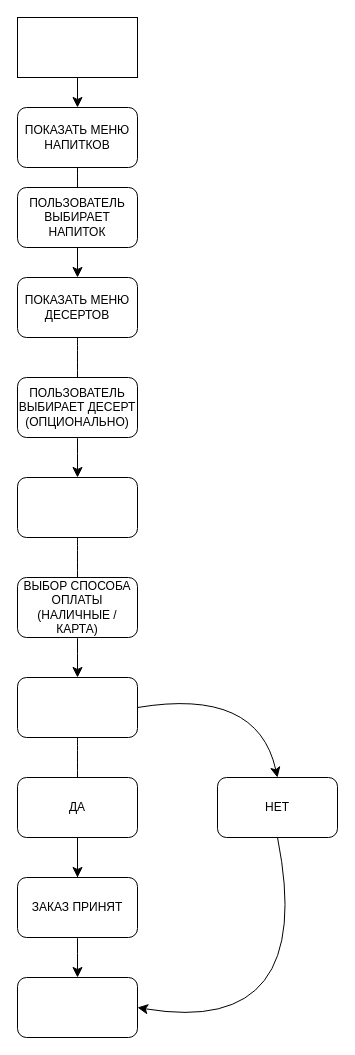
This 355x1055 diagram has some shape labels left out. The shapes that lost their labels are listed below. From the top down, each one's centre as x and y in pixels, then its label:
the point at 77,47: НАЧАЛО
the point at 77,507: ПОДСЧИТАТЬ ИТОГОВУЮ СУММУ
the point at 77,707: ОПЛАТА ПРОШЛА УСПЕШНО?
the point at 77,1007: КОНЕЦ
